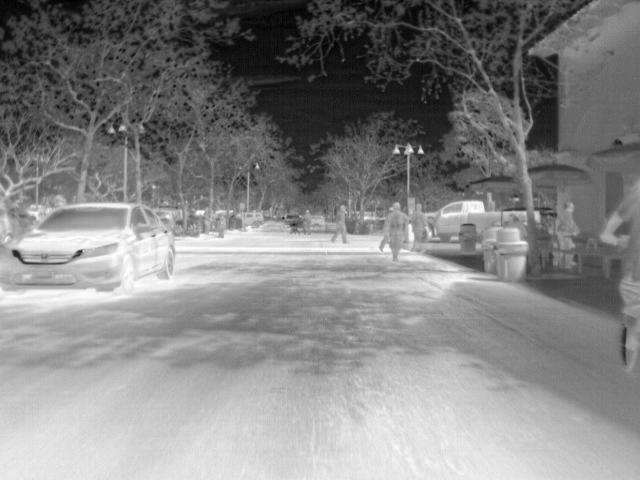car: (0, 200, 176, 294), (463, 198, 527, 220), (429, 198, 460, 240), (155, 205, 183, 223), (244, 210, 262, 228), (312, 213, 327, 232), (281, 211, 298, 224)
person: (615, 176, 639, 291), (556, 198, 578, 246), (386, 204, 404, 262), (410, 203, 426, 253), (333, 202, 347, 243), (198, 206, 212, 234), (216, 213, 228, 238), (301, 210, 311, 233)
